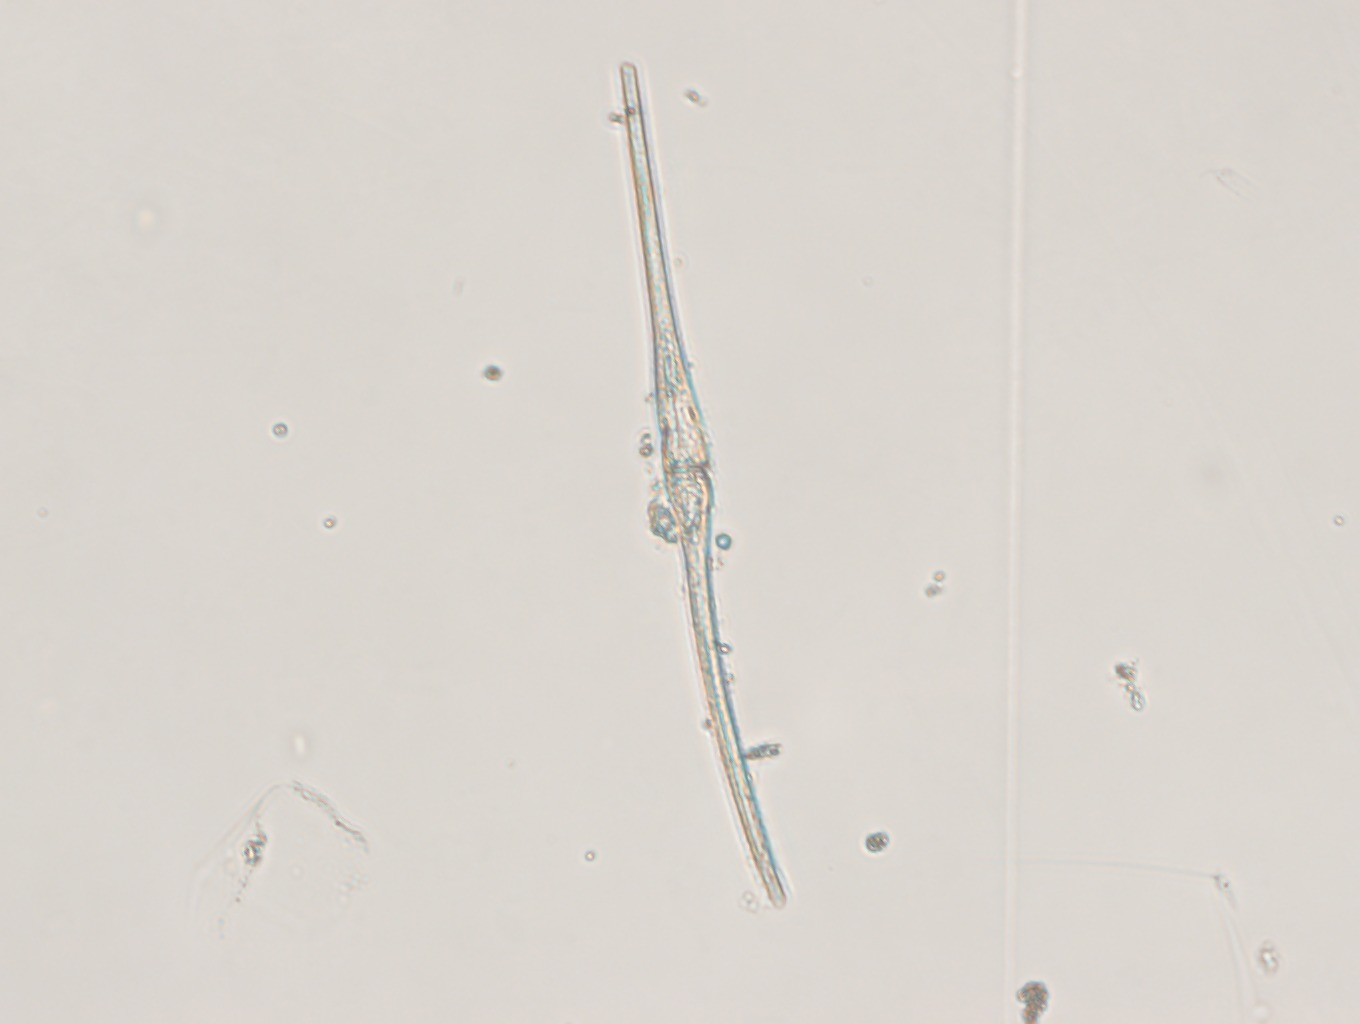ceratium fusus: (614, 56, 793, 912)
